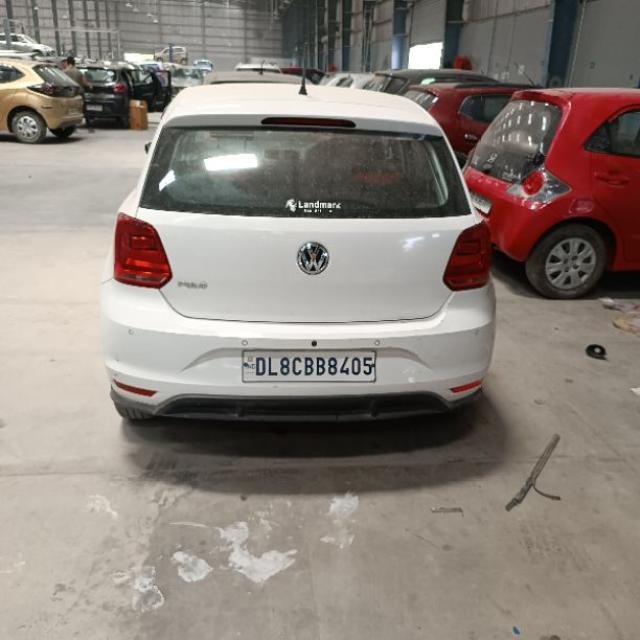license_plate: (240, 348, 378, 383)
